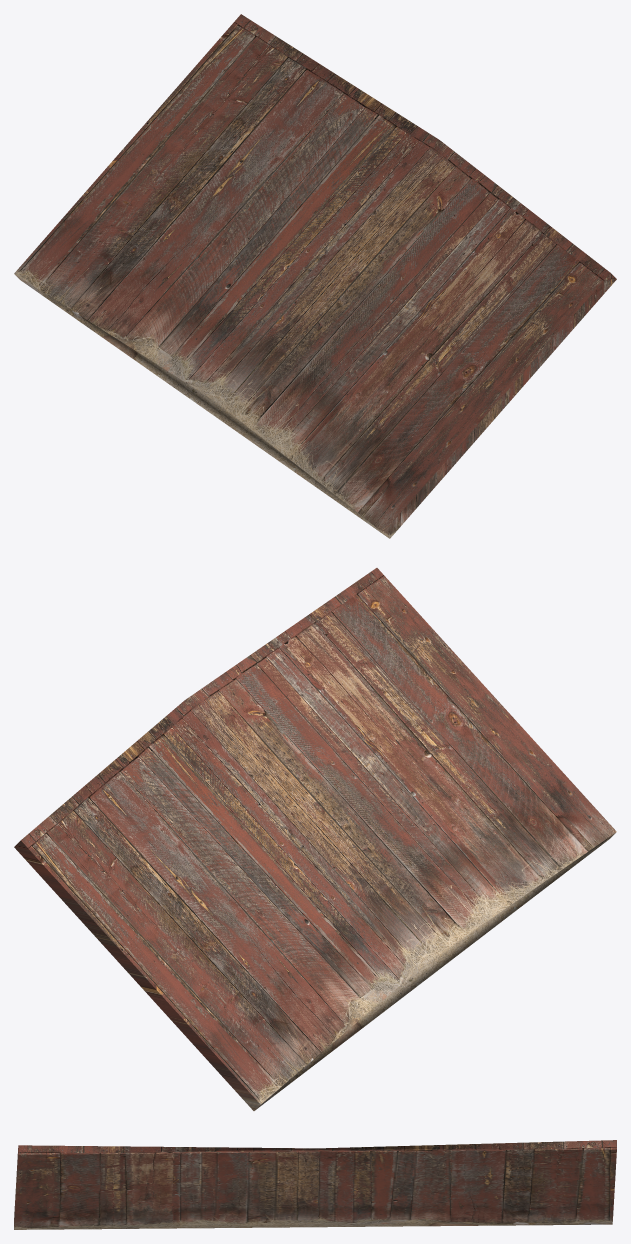
The model's file is techo.obj.
3 views of the same model, one above another, from view 1: azimuth 30°, elevation 25°; view 2: azimuth 150°, elevation 25°; view 3: azimuth 270°, elevation 25° (orthographic). The views are drawn at different scales.
Parts seen in each view (by area): view 1: polySurface139 polySurface95; view 2: polySurface139 polySurface95; view 3: polySurface139 polySurface95.
Boxes of the visible parts, x1=… form: polySurface139 polySurface95: x1=14, y1=14, x2=616, y2=538; polySurface139 polySurface95: x1=14, y1=568, x2=616, y2=1110; polySurface139 polySurface95: x1=14, y1=1140, x2=616, y2=1229.
Size of the model in its own units: 5.75 by 4.62 by 14.34.
Materials: 1 (1 with a texture image).
